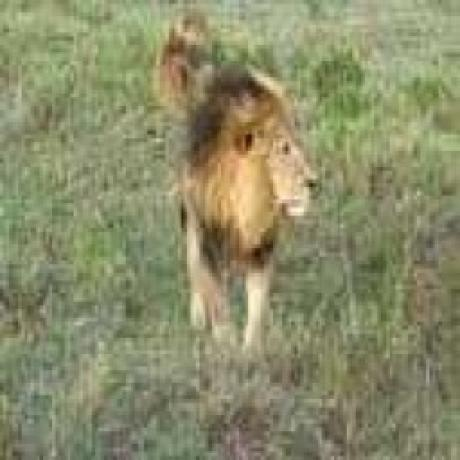Lion: (183, 61, 321, 350)
